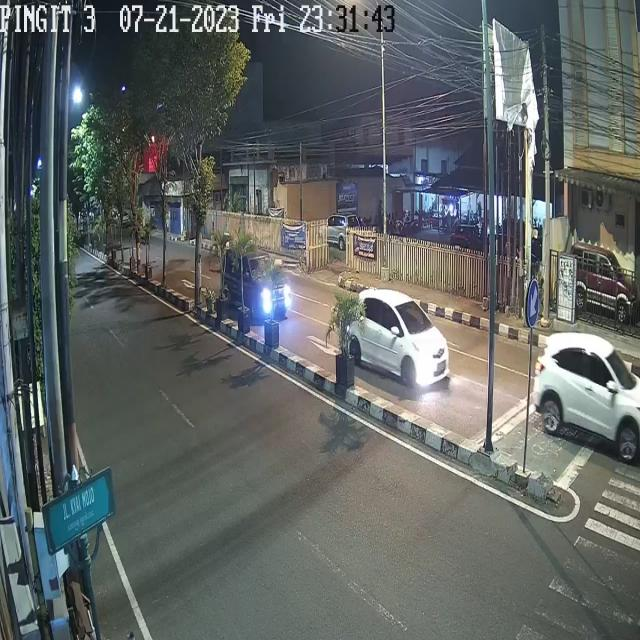car: (532, 331, 640, 467), (344, 289, 450, 392), (222, 242, 290, 326), (566, 243, 635, 323)
